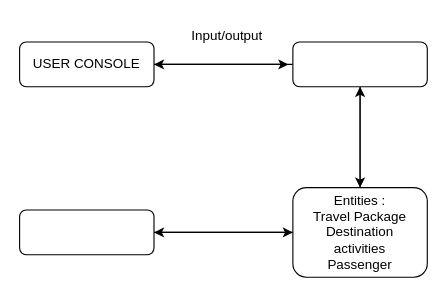
The diagram is 447 pixels wide and 297 high, and some of its shapes have lost their labels. Here are the shapes that lost their labels. From the top down, the box of each, then its label:
(292, 41, 427, 87): Business Logic Layer
(18, 209, 154, 255): Data
